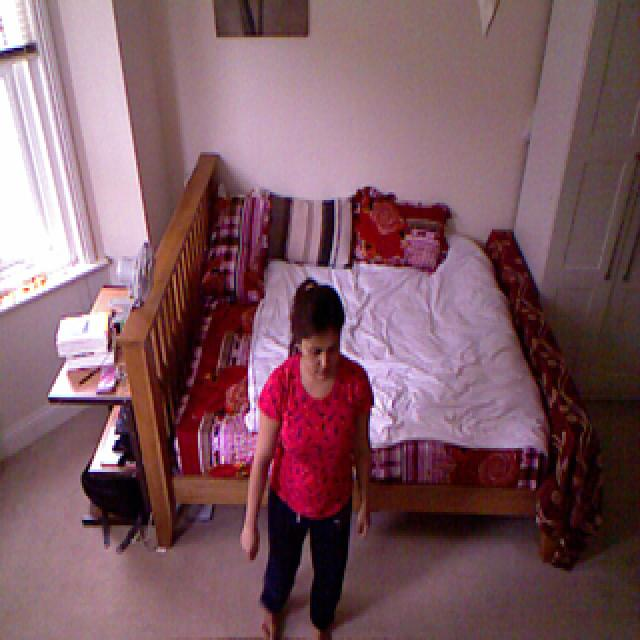standing: (243, 265, 374, 640)
